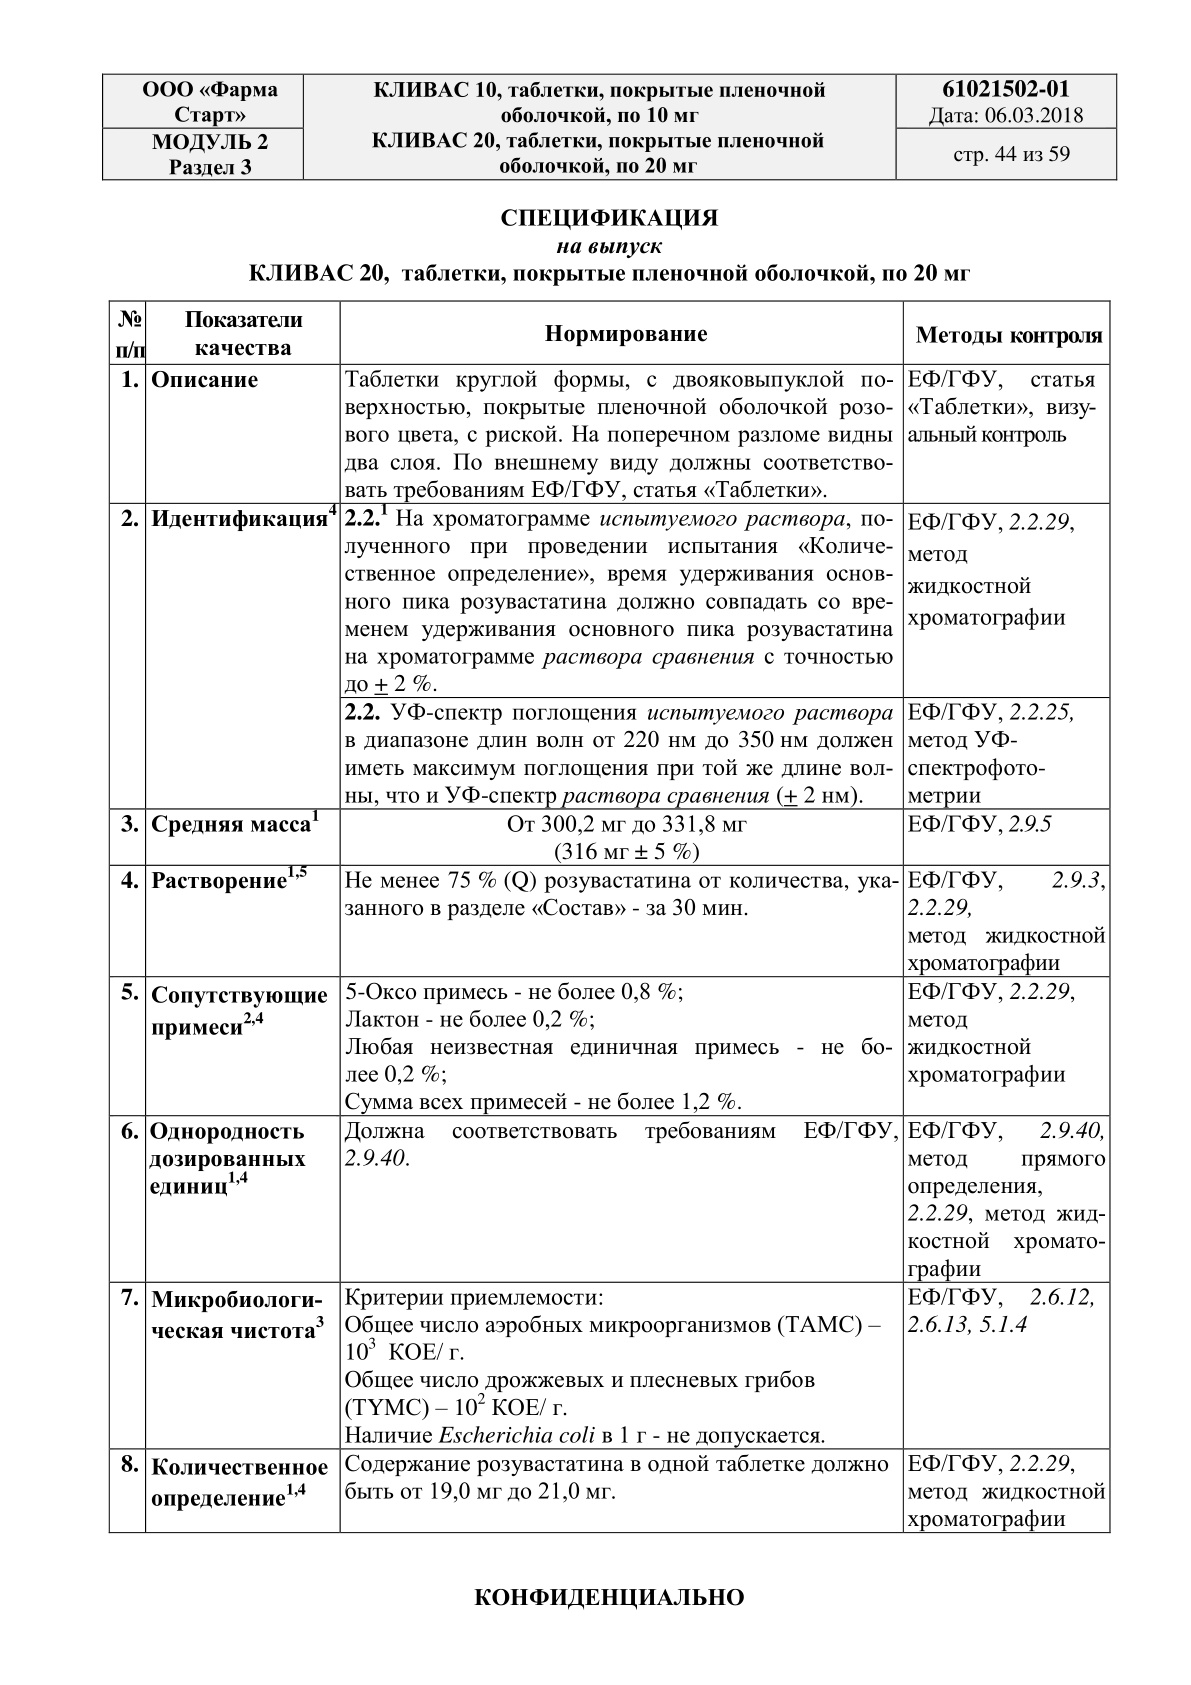full_lined: (108, 299, 1111, 1534)
merged_cells: (101, 73, 1118, 180)
